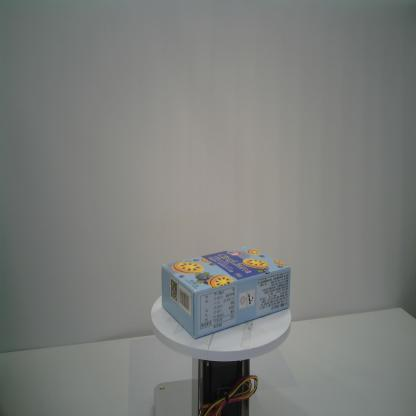Dessert: (161, 244, 292, 340)
